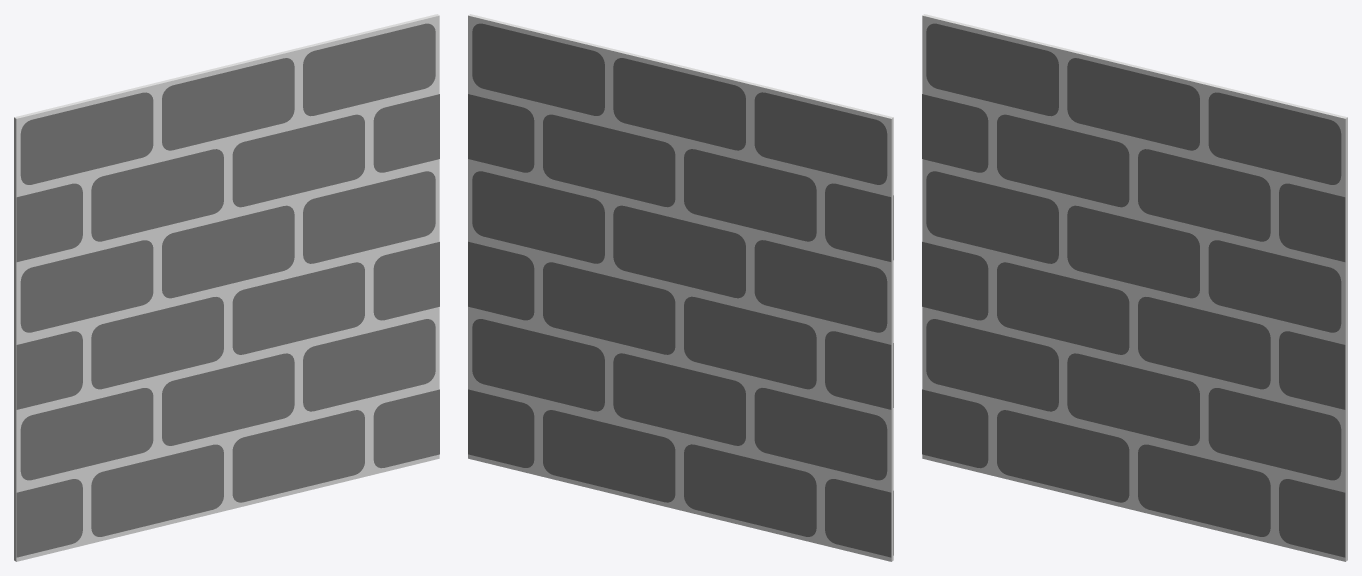
Rendered from Wall Bricks B.fbx.
3 views of the same model, side by side, from view 1: azimuth 30°, elevation 25°; view 2: azimuth 150°, elevation 25°; view 3: azimuth 330°, elevation 25° (orthographic).
Parts seen in each view (by area): view 1: Wall Bricks B; view 2: Wall Bricks B; view 3: Wall Bricks B.
Boxes of the visible parts, x1,y1,x2,y2 form: Wall Bricks B: [14, 14, 439, 561]; Wall Bricks B: [468, 14, 893, 561]; Wall Bricks B: [922, 14, 1347, 561].
Bounding box in the file's own units: 300 × 300 × 3.12.
